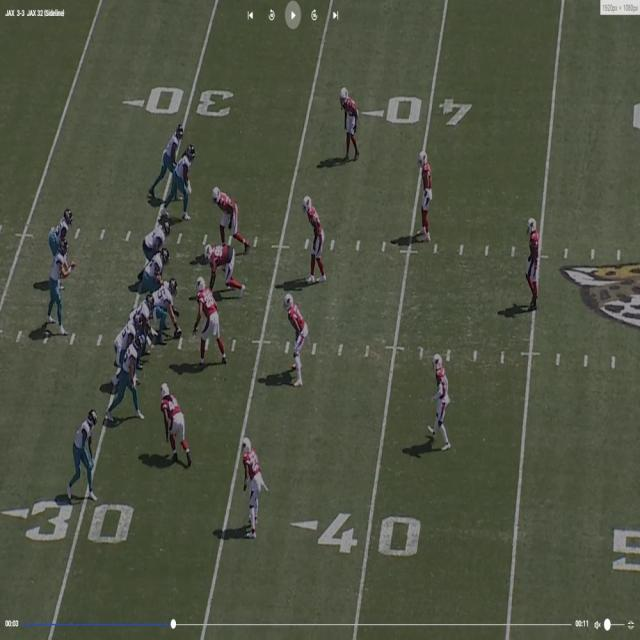center: (156, 276, 179, 336)
db: (242, 434, 262, 534), (524, 213, 540, 308), (420, 150, 436, 243), (436, 355, 450, 448), (344, 85, 362, 154)
lb: (198, 282, 224, 371), (305, 195, 327, 287), (286, 290, 308, 380)
qb: (52, 244, 68, 328)
skill: (114, 333, 144, 420), (70, 410, 96, 496), (168, 144, 194, 216), (154, 125, 182, 186), (53, 211, 74, 254)
